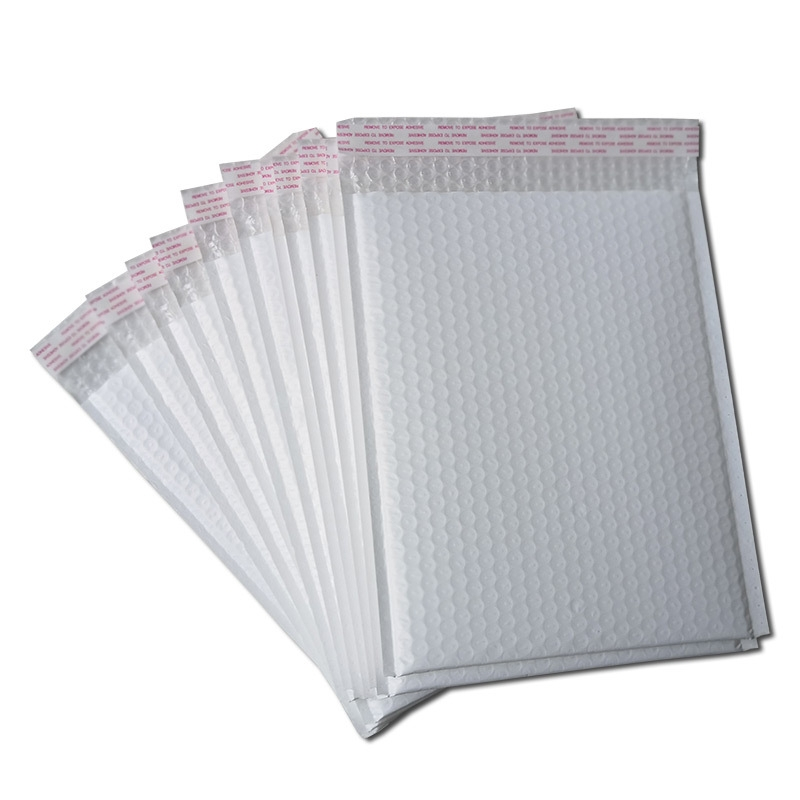塑料袋: (6, 44, 800, 790)
